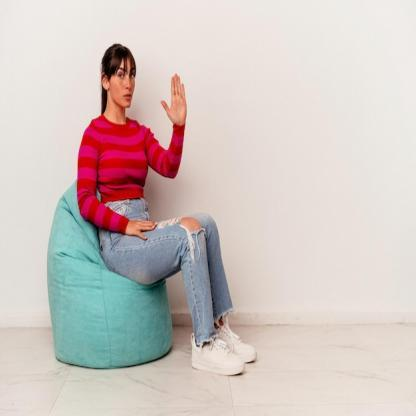stop: (158, 73, 192, 127)
